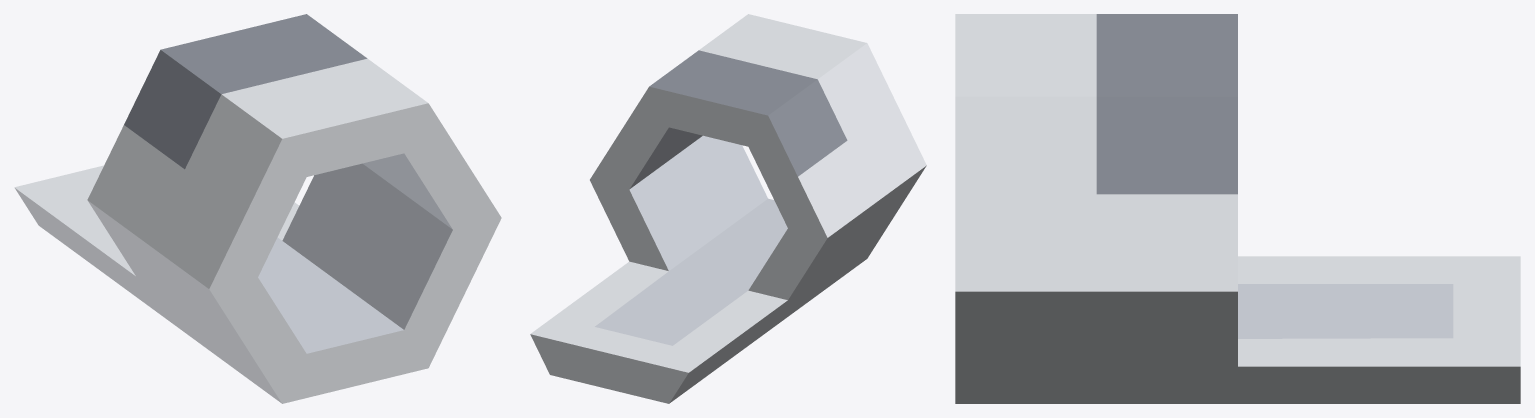
The model's file is pipe_end.glb.
The picture shows the model from 3 angles, left to right: view 1: azimuth 30°, elevation 25°; view 2: azimuth 150°, elevation 25°; view 3: azimuth 270°, elevation 25°; orthographic projection. The views are drawn at different scales.
Parts seen in each view (by area): view 1: pipe_end; view 2: pipe_end; view 3: pipe_end.
Part boxes in pixels (x1,y1,x2,y2): pipe_end: (14,14,501,403); pipe_end: (530,14,926,403); pipe_end: (955,14,1520,403).
Bounding box in the file's own units: 0.6928 × 0.6 × 1.
Materials: 1 (1 with a texture image).
